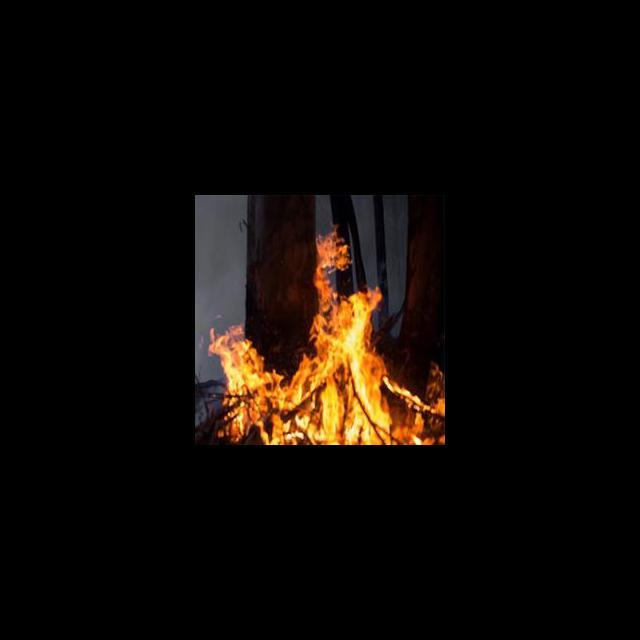Fire: (204, 228, 444, 444)
